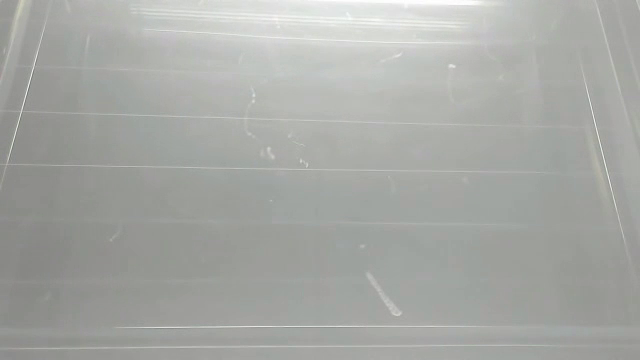alpha: (360, 266, 406, 319)
